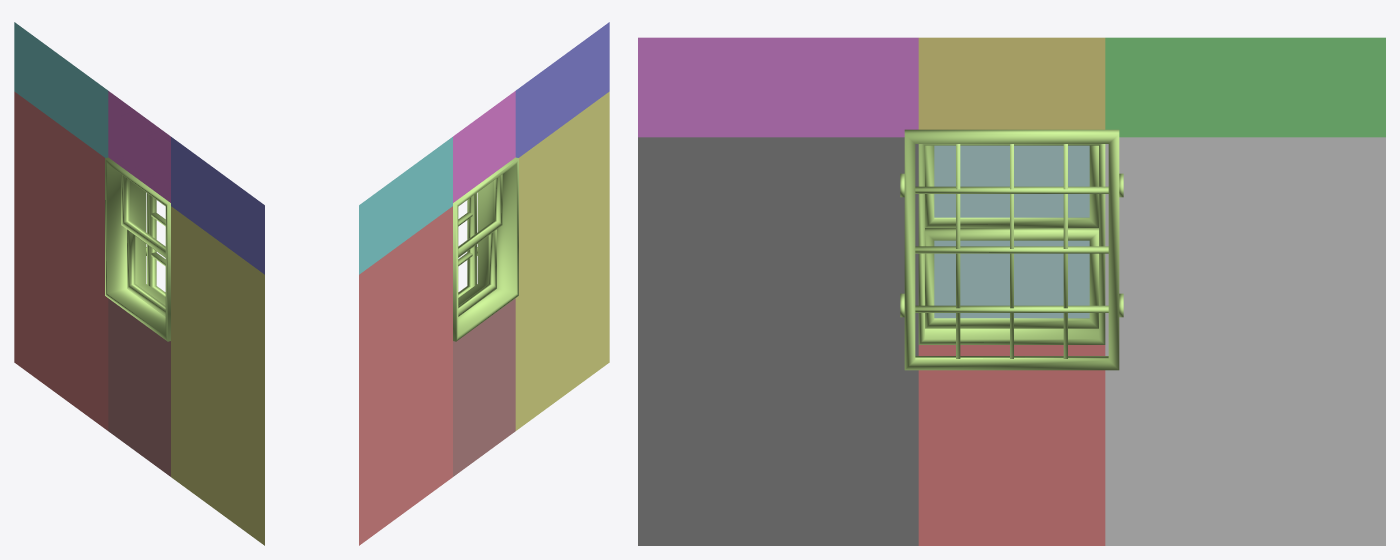
The model's file is SM_window_11.gltf.
3 renders of one model, left to right at view 1: azimuth 30°, elevation 25°; view 2: azimuth 150°, elevation 25°; view 3: azimuth 270°, elevation 25°, orthographic. The views are drawn at different scales.
Parts seen in each view (by area): view 1: SM_window_11; view 2: SM_window_11; view 3: SM_window_11.
Boxes of the visible parts, bbox=[...] form: SM_window_11: bbox=[14, 22, 264, 545]; SM_window_11: bbox=[359, 22, 609, 545]; SM_window_11: bbox=[638, 37, 1385, 545].
Bounding box in the file's own units: 0.4851 × 3 × 4.
